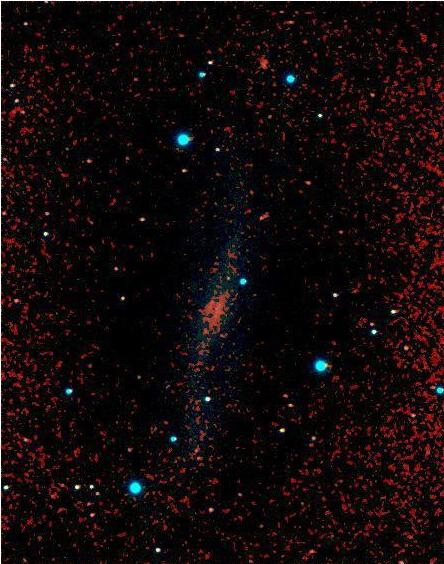star: (191, 316, 221, 346)
